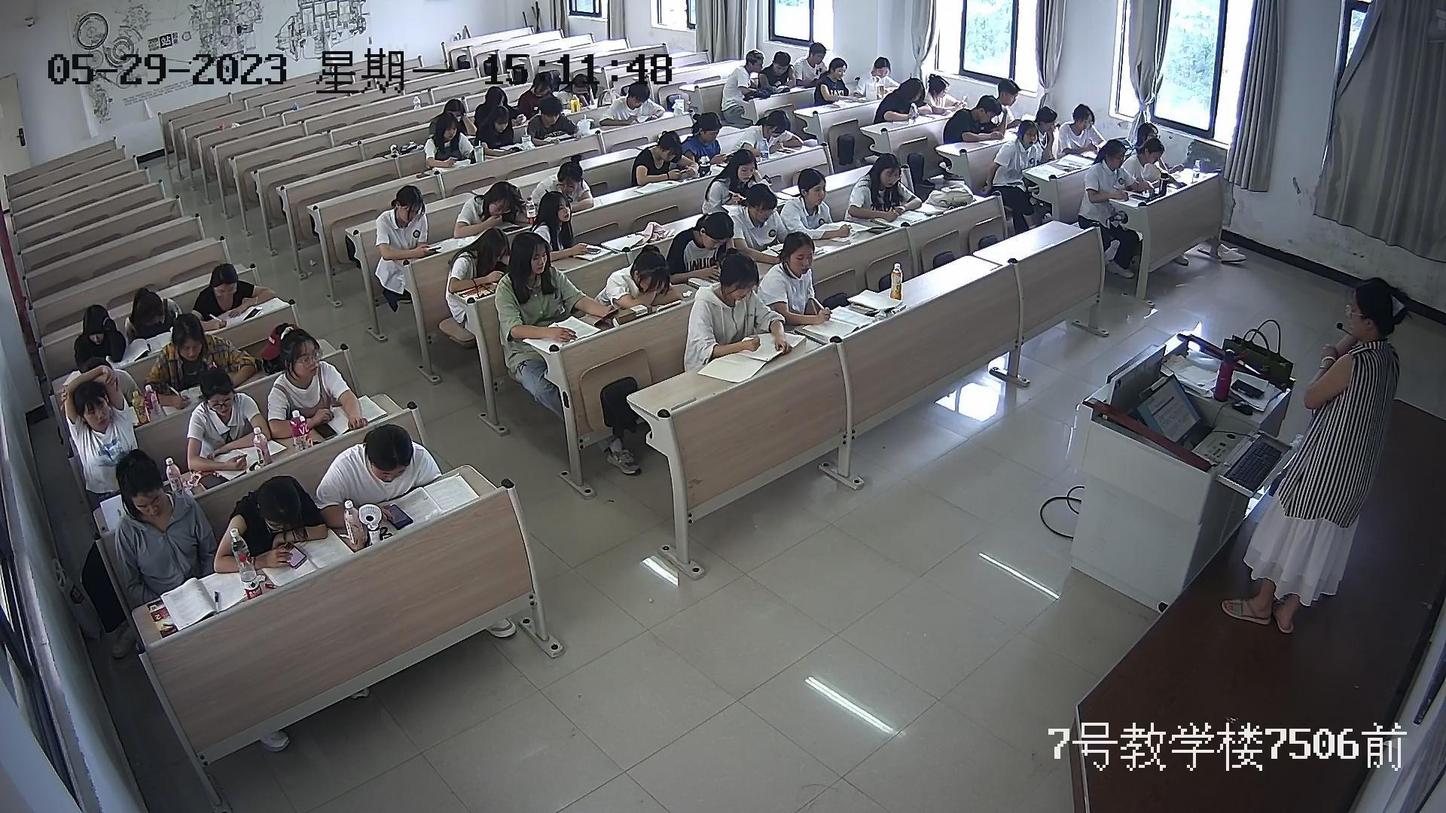Stand Up: (1237, 263, 1414, 643)
